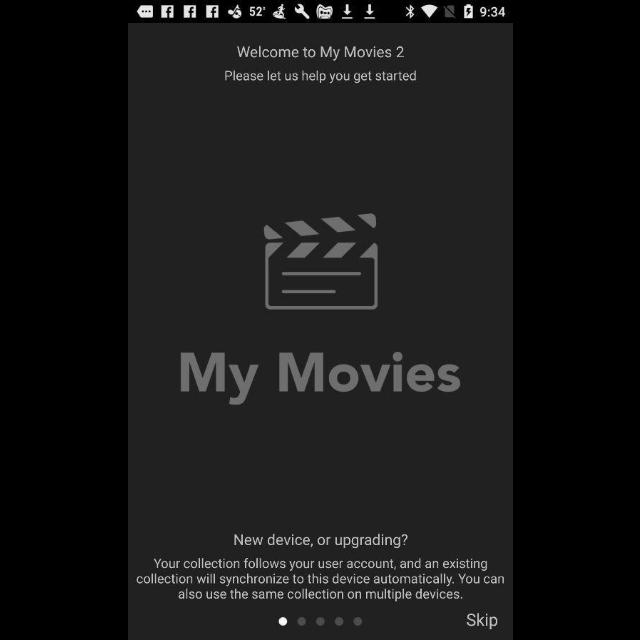image: (263, 214, 377, 310)
pageindicator: (278, 615, 362, 627)
text: (136, 558, 504, 602), (180, 352, 460, 406), (224, 70, 416, 86), (234, 533, 408, 549), (236, 46, 404, 62), (465, 612, 497, 630)
uppertaskbar: (128, 1, 512, 23)
